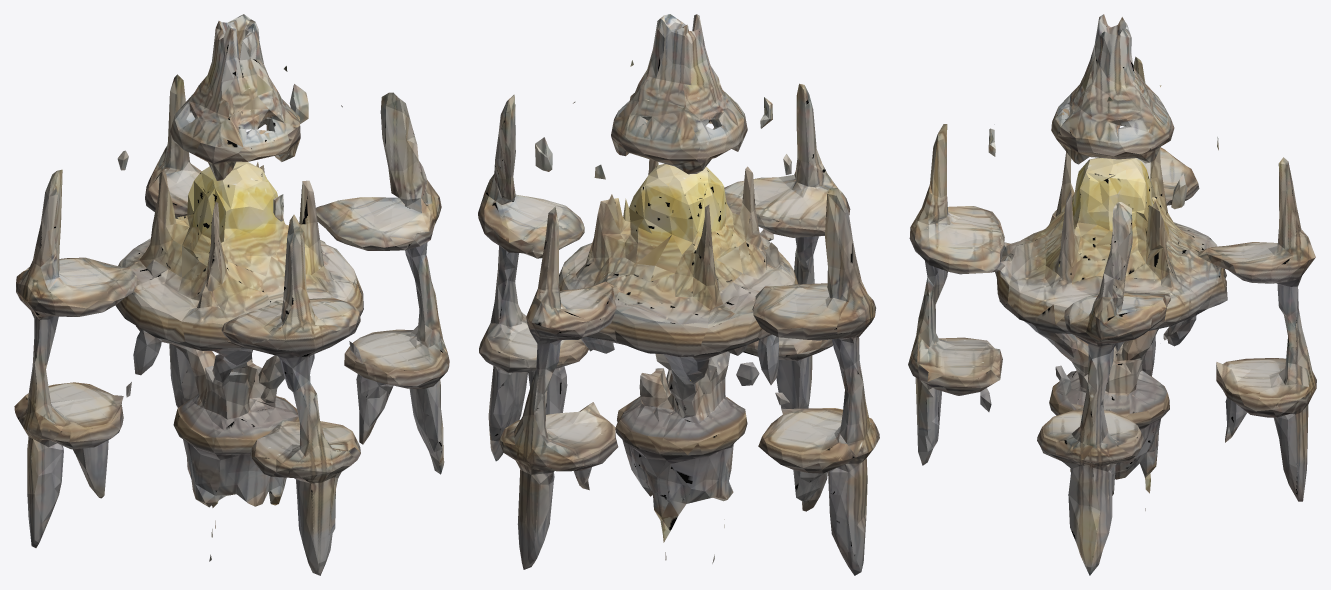
The model's file is nexus_6.glb.
3 renders of one model, left to right at view 1: azimuth 30°, elevation 25°; view 2: azimuth 150°, elevation 25°; view 3: azimuth 270°, elevation 25°, orthographic. The views are drawn at different scales.
Visible parts, largest first — view 1: test (8); view 2: test (8); view 3: test (8).
Part boxes in pixels (<box>): test (8): <box>14,14,449,575</box>; test (8): <box>478,14,879,575</box>; test (8): <box>908,14,1316,575</box>.
Bounding box in the file's own units: 3.98 × 5.1 × 3.74.
1 material, 1 textured.
